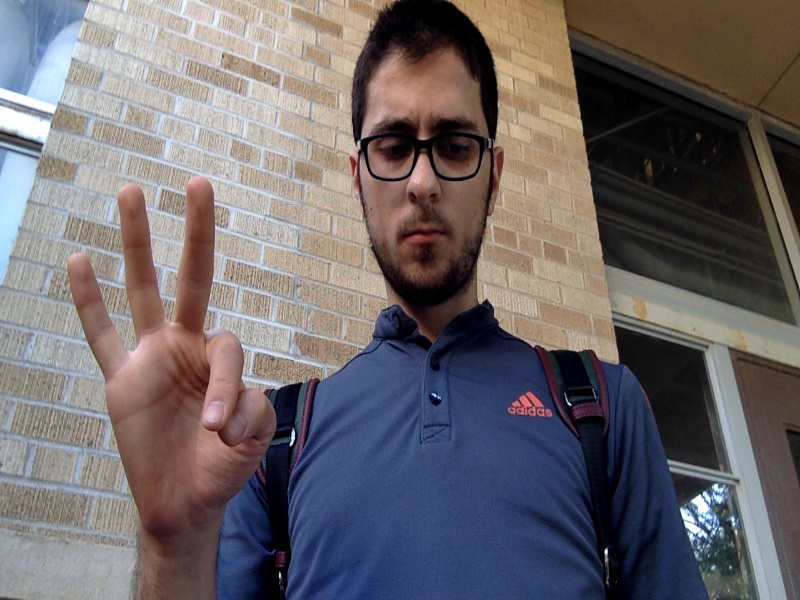3-hand: (68, 180, 273, 532)
